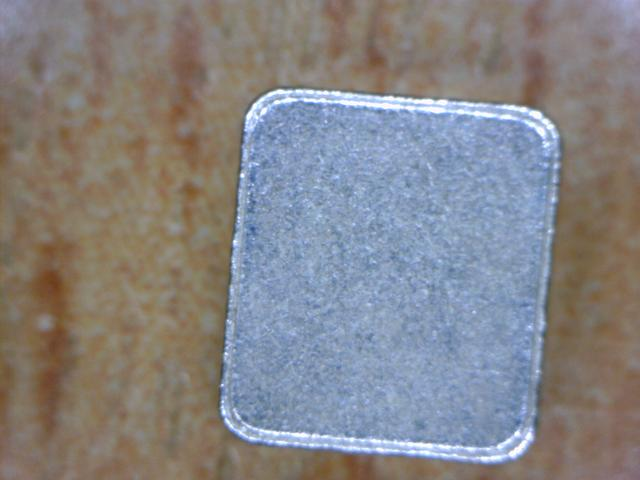nok: (216, 76, 568, 469)
